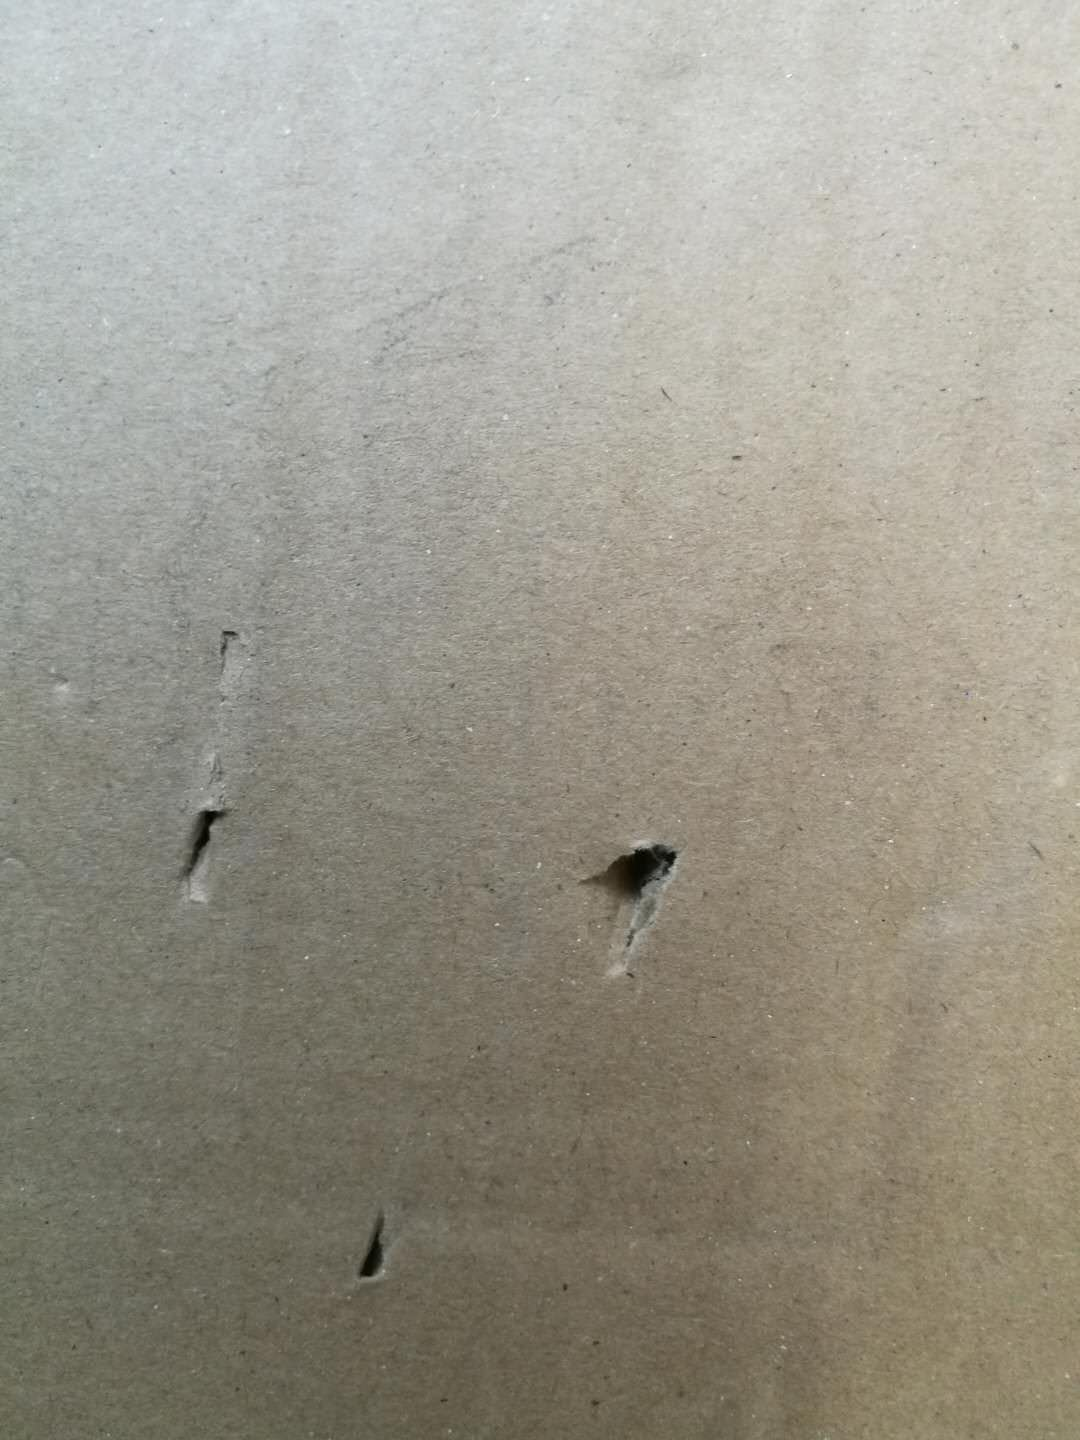defect: (132, 604, 282, 937), (549, 824, 711, 1003), (331, 1193, 417, 1302)
